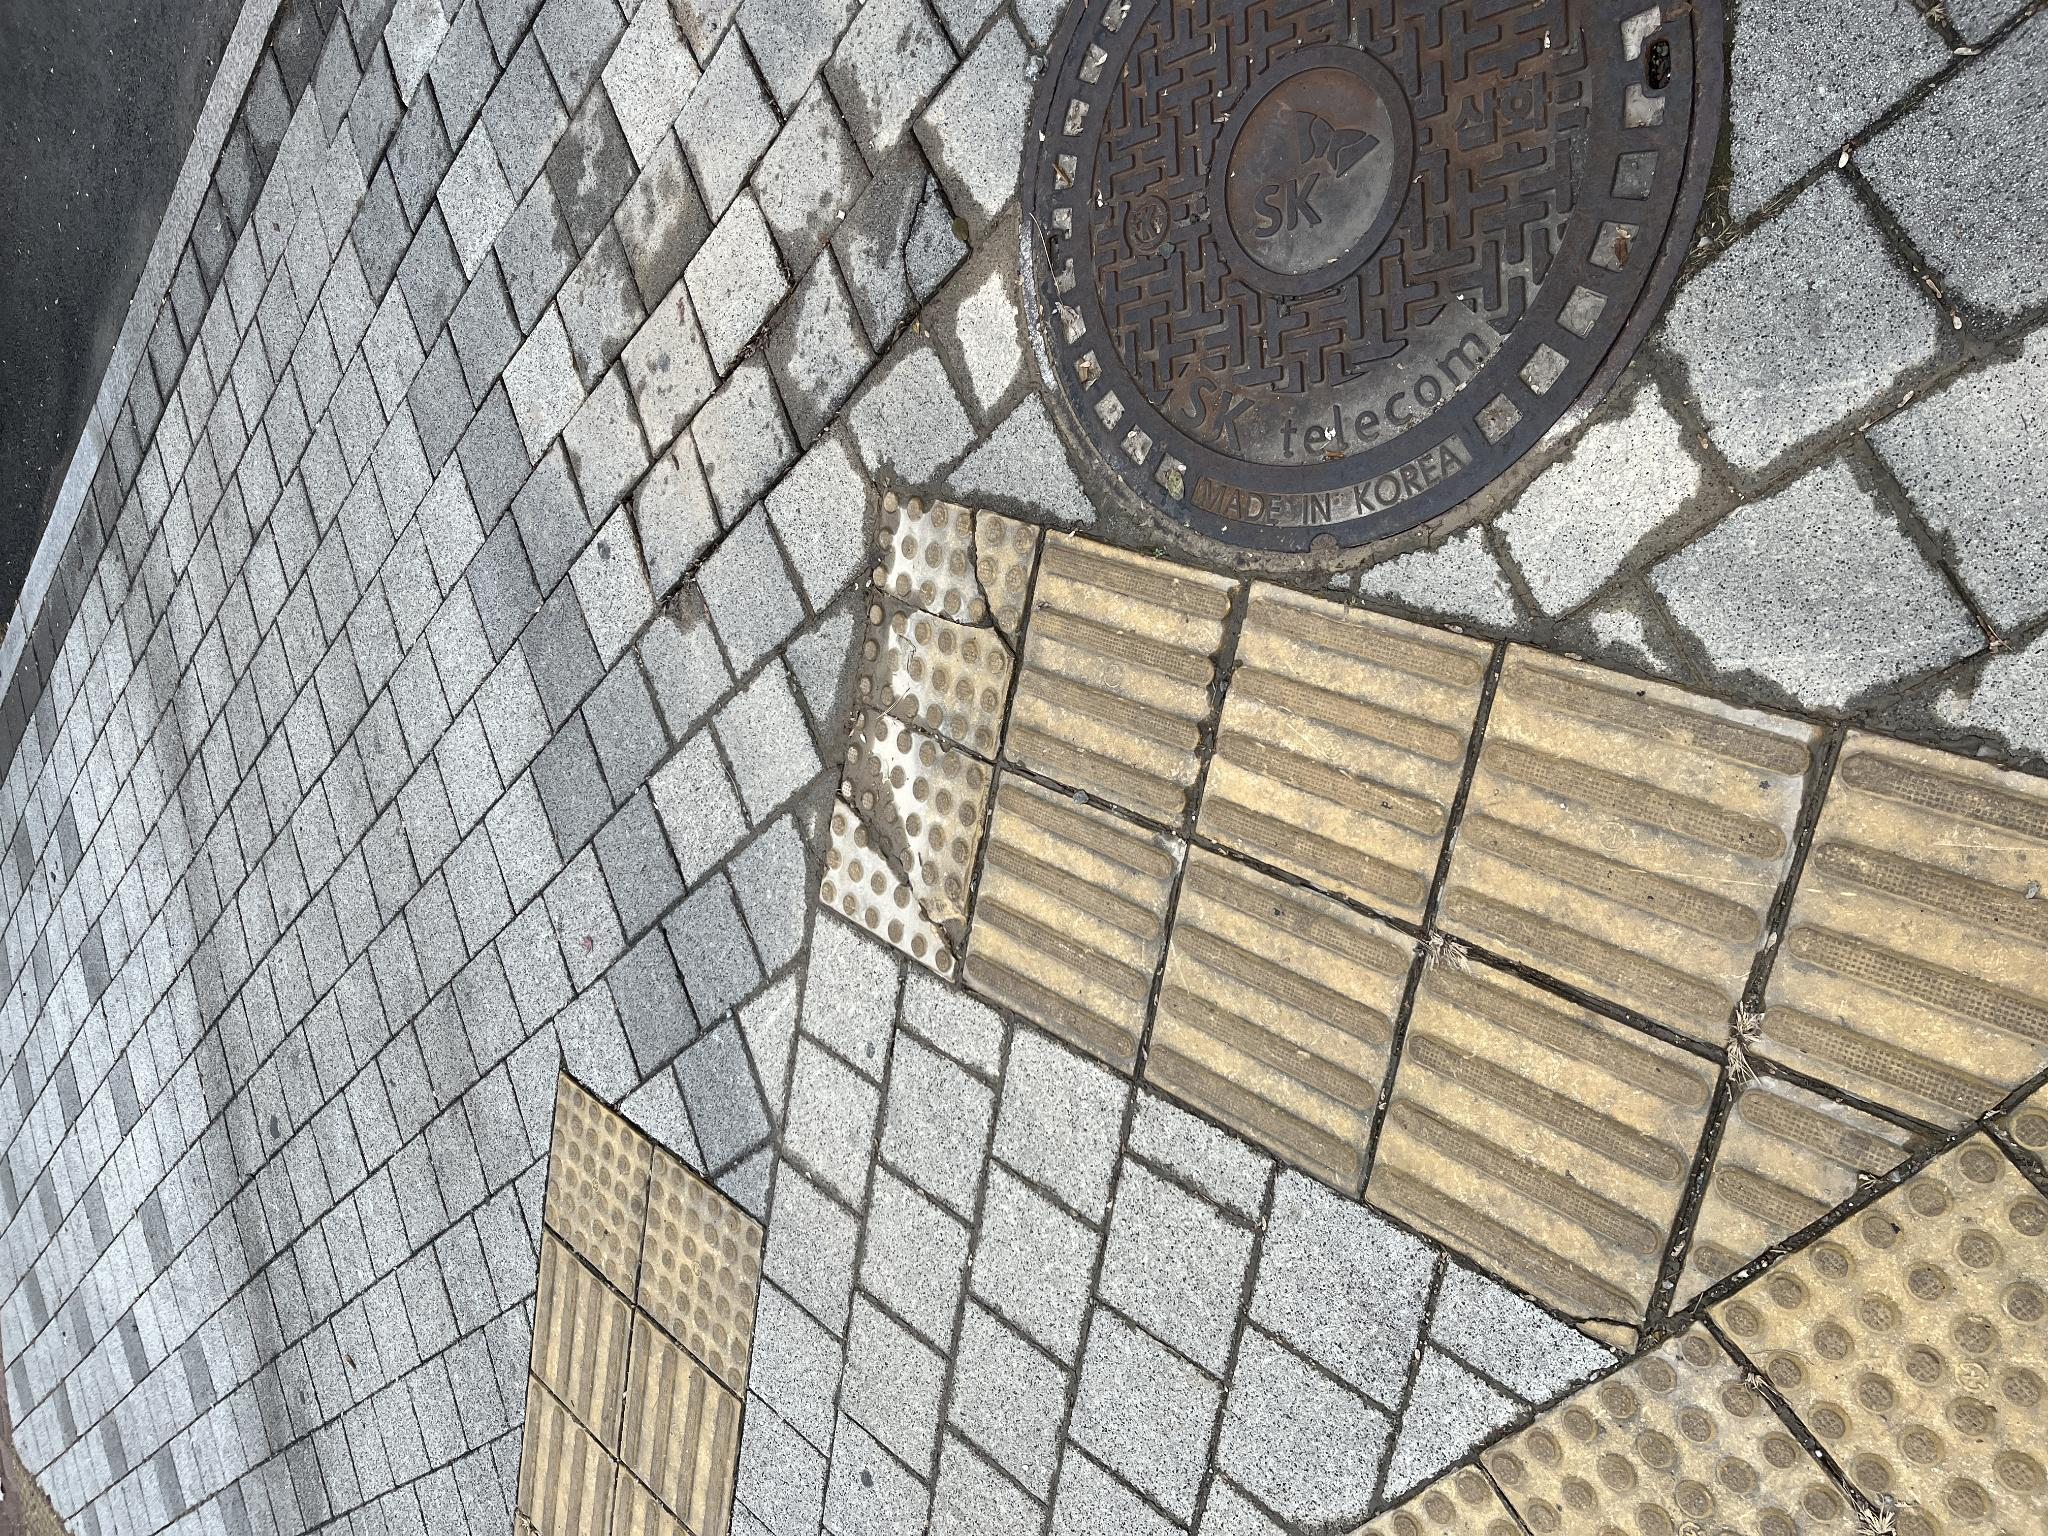Stop block broken: (777, 858, 1048, 1037), (558, 820, 830, 991)
Stop block normal: (140, 636, 389, 763)
Straight block broken: (237, 1365, 589, 1536)
Straight block normal: (613, 1194, 953, 1491), (339, 1144, 689, 1417), (710, 1005, 1003, 1238), (461, 965, 763, 1183)
